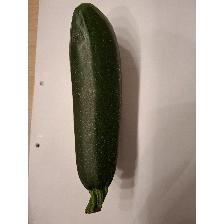Zucchini: (66, 3, 128, 217)
